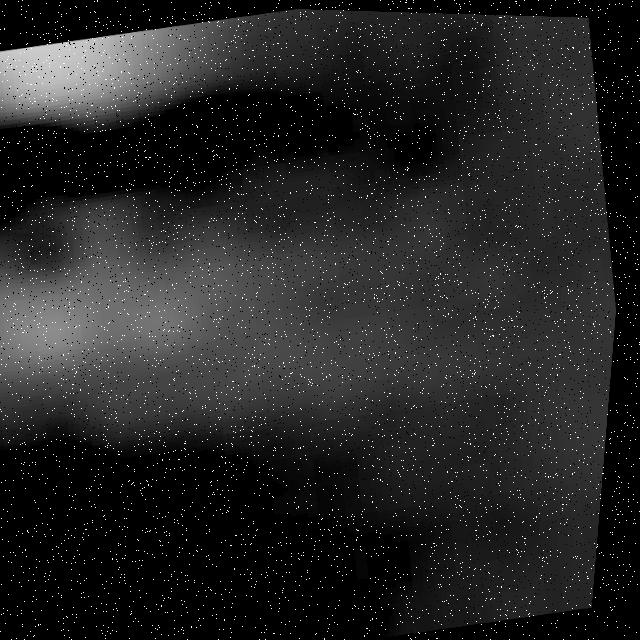person: (1, 142, 442, 459), (1, 1, 318, 158)
